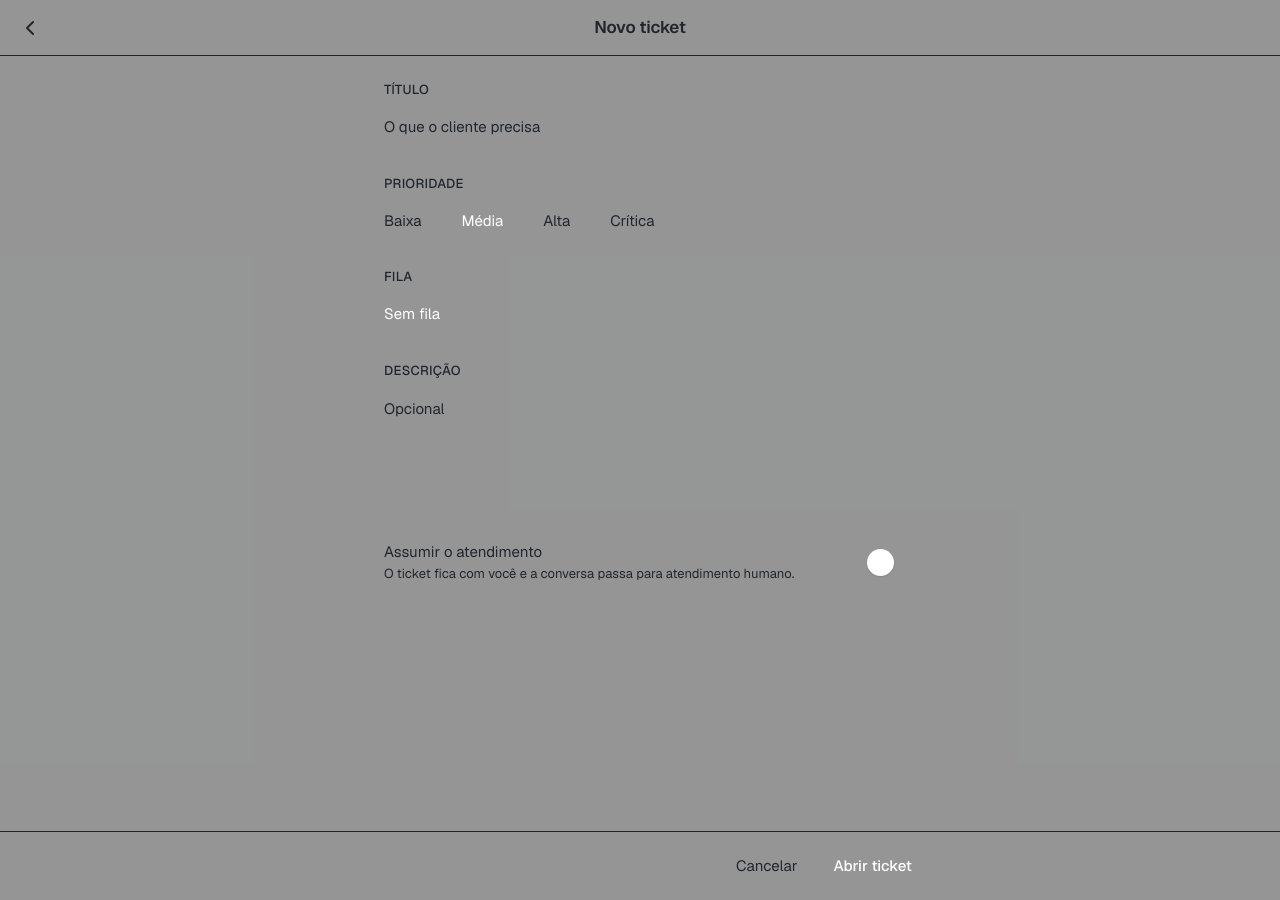
it: ContactInfoSheet · tickets › Esc no Novo ticket sujo pergunta "Descartar?" na própria vista; cada Esc desfaz uma coisa
expect the heading "Novo ticket" is shown: met, box [594,16,686,38]
Type "Rascunho do ticket" into the field labelled "Título".
click(640, 128); type("Rascunho do ticket")  # box [368,106,912,150]
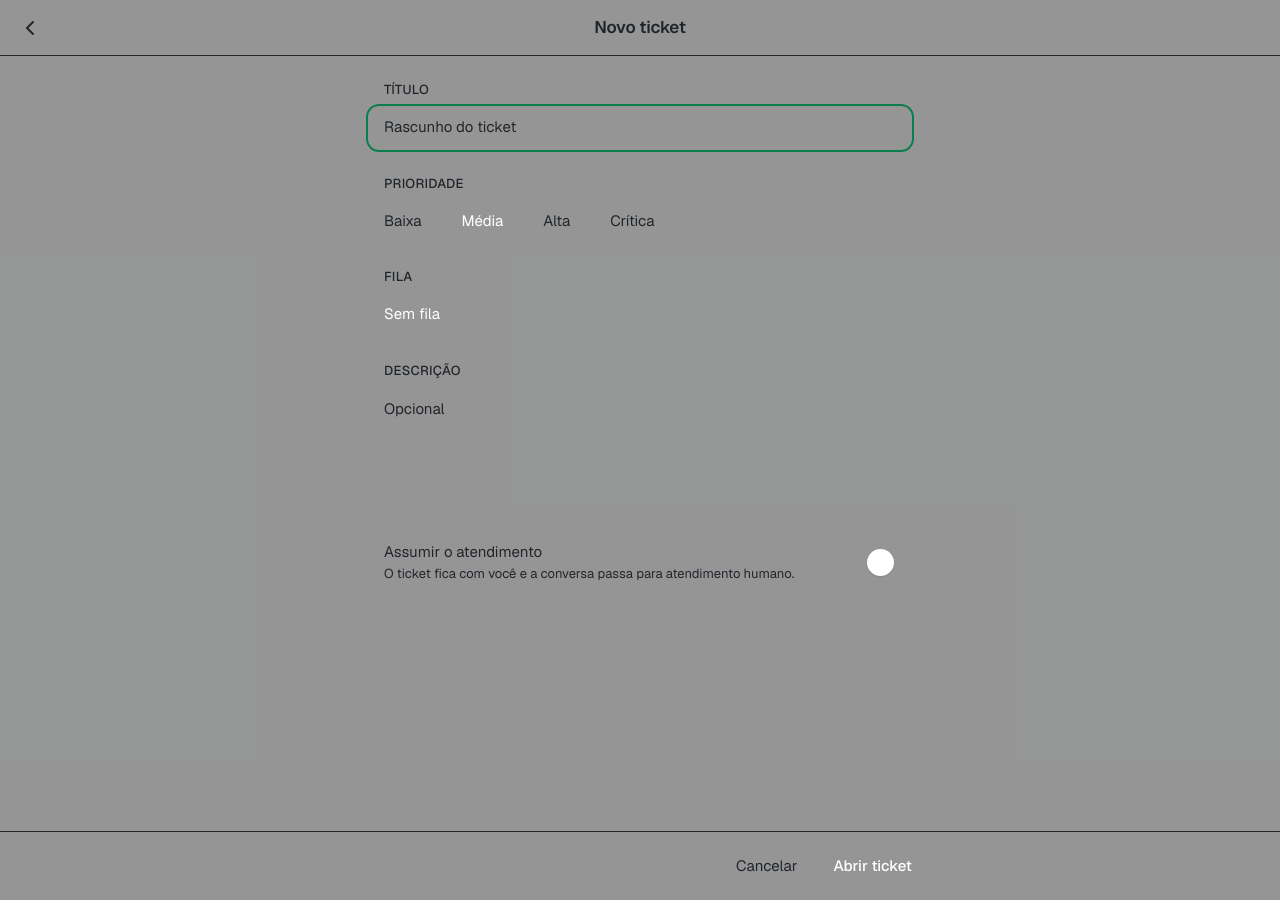
Press Escape
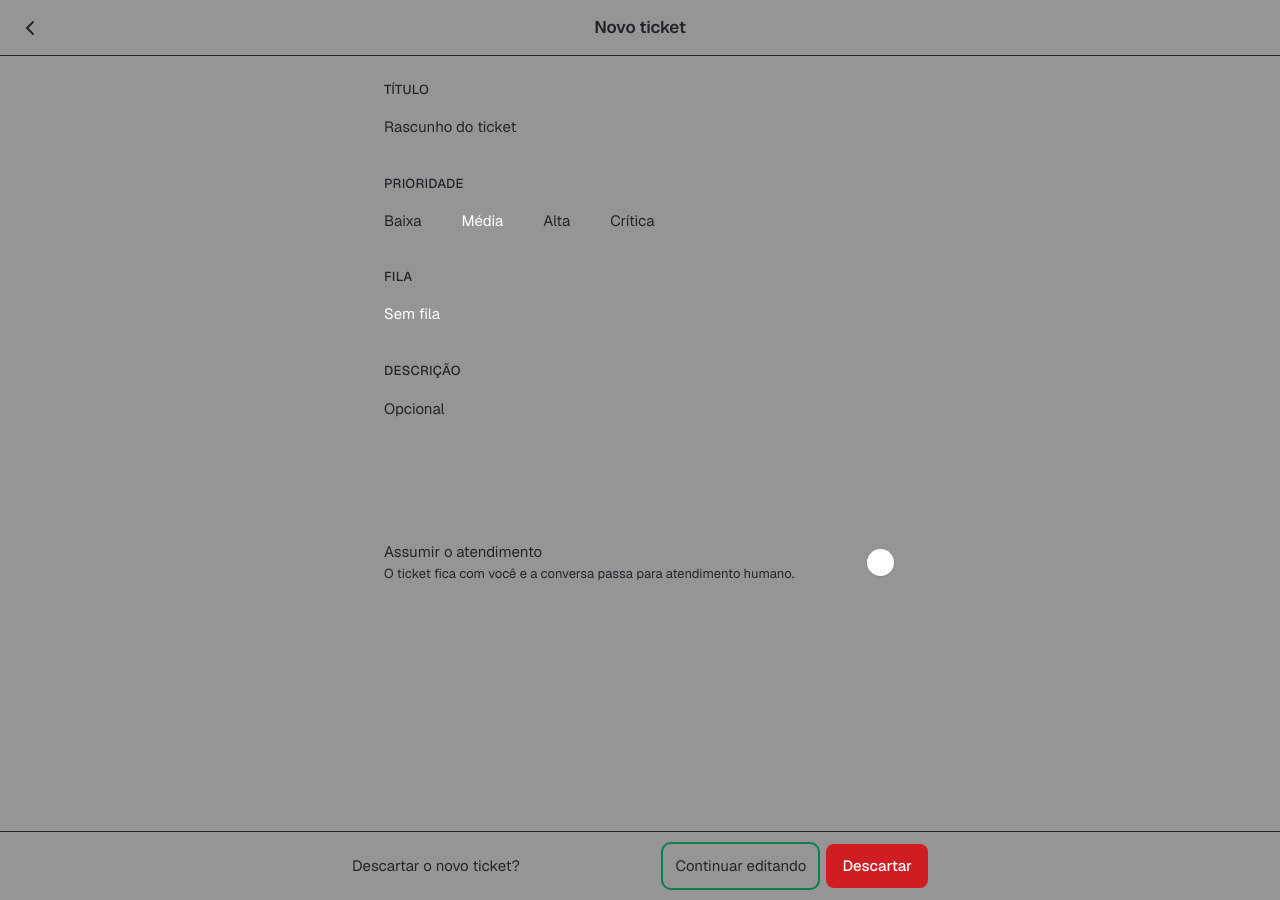
expect the heading "Novo ticket" is shown: met, box [594,16,686,38]
expect the text "Descartar o novo ticket?" is shown: met, box [352,856,520,875]
Press Escape
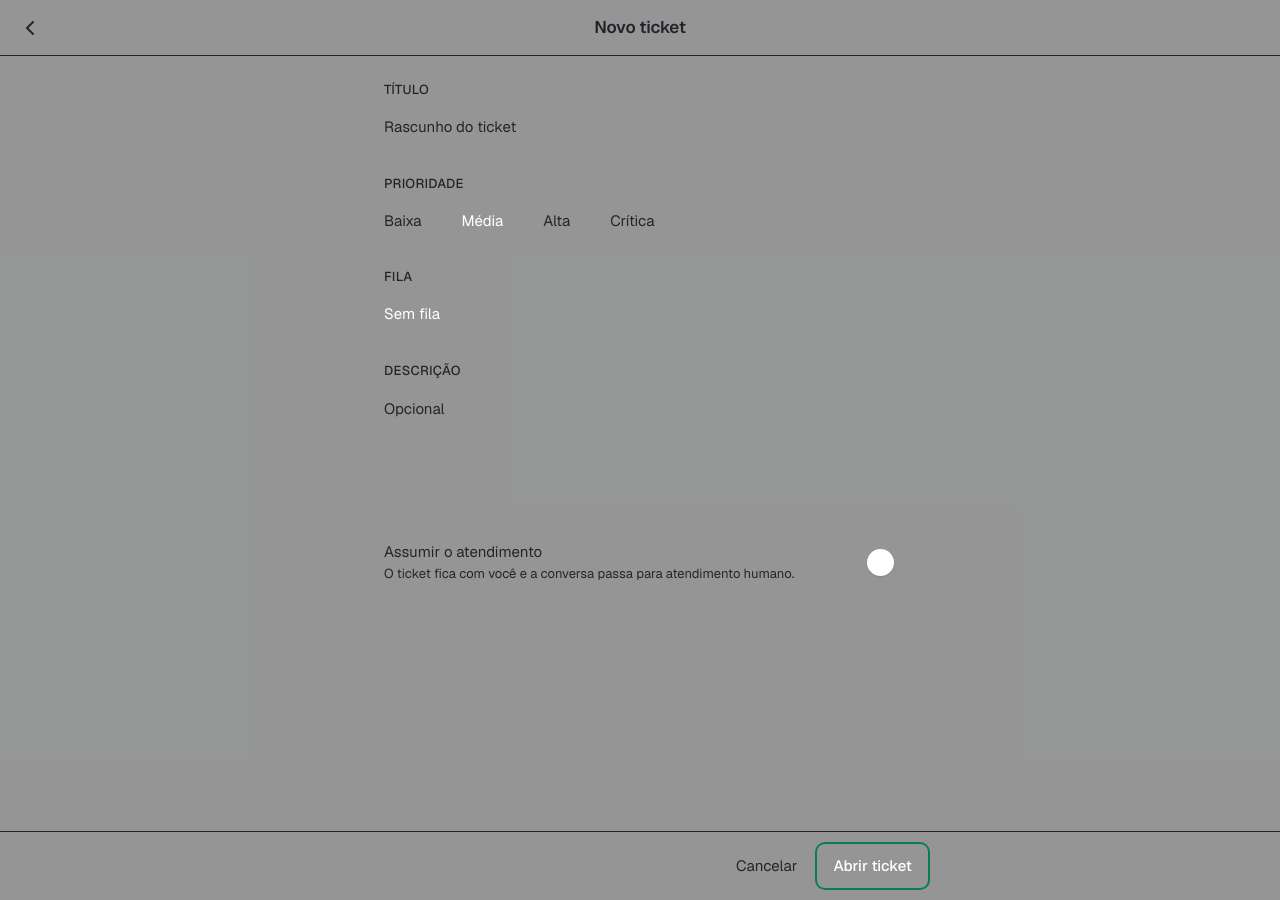
expect the heading "Novo ticket" is shown: met, box [594,16,686,38]
expect the text "Descartar o novo ticket?" is gone: met
Click the button named "Voltar para os dados do contato".
click(30, 28)  # box [8,6,52,50]
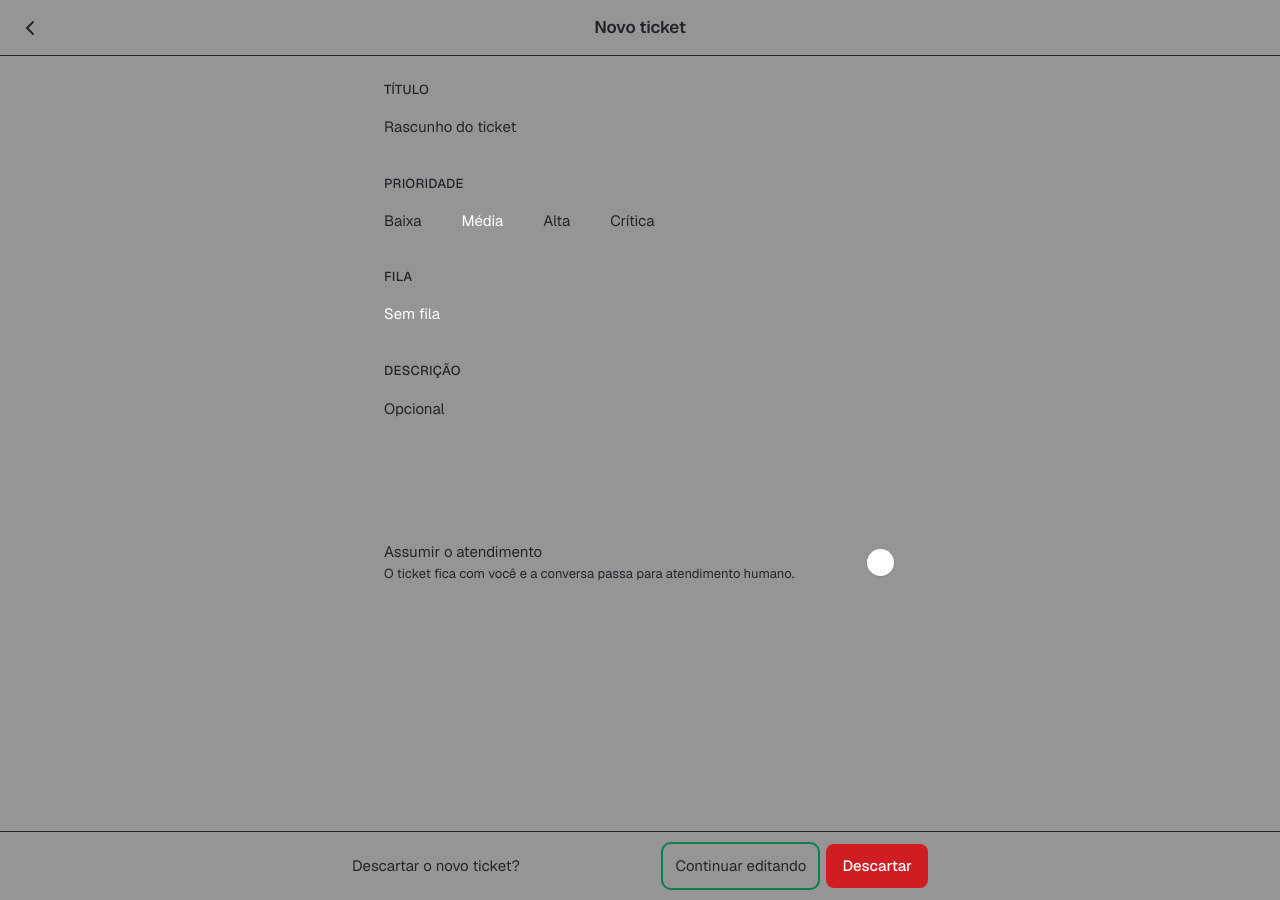
Click the button "Descartar".
click(877, 866)  # box [826,844,928,888]
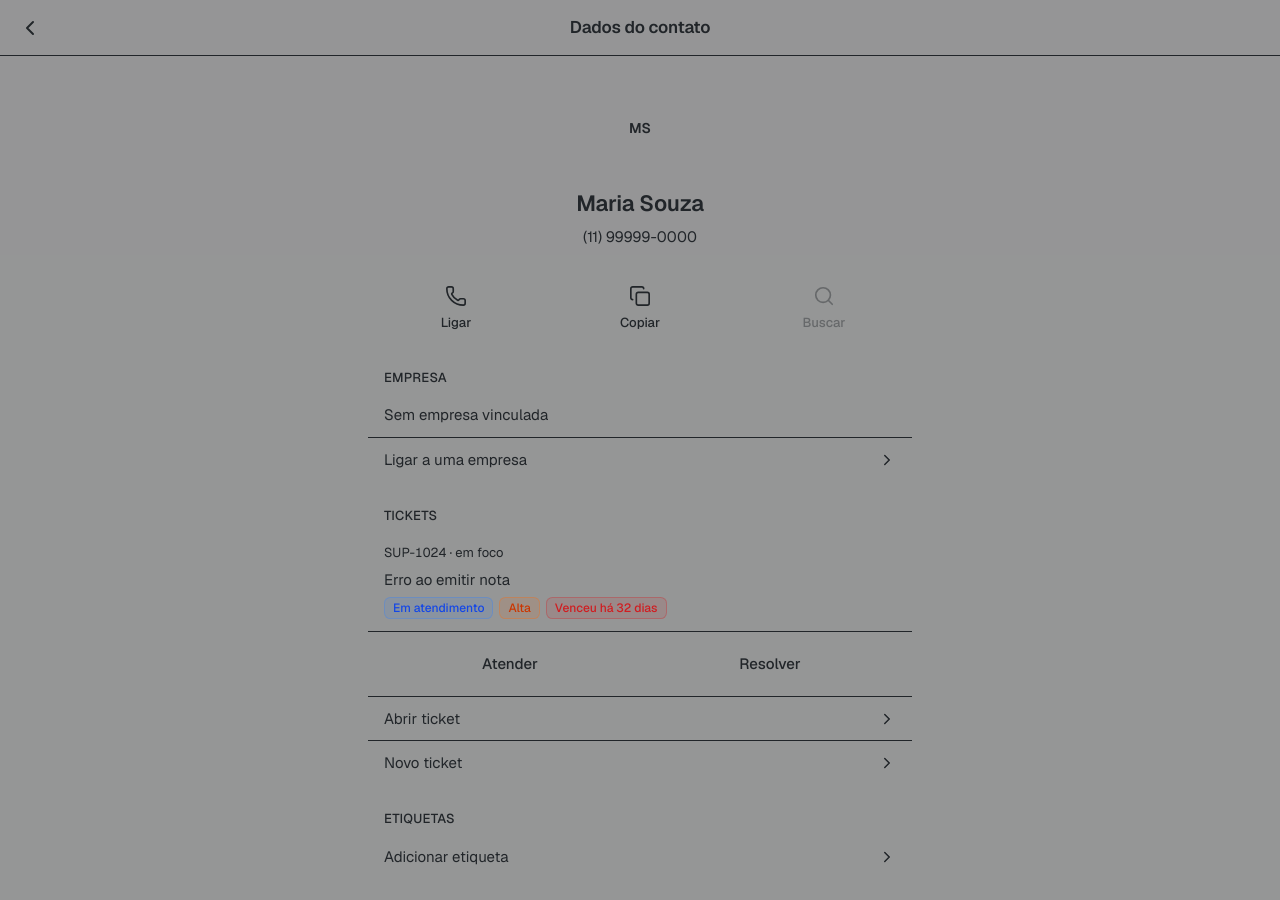
expect the heading "Dados do contato" is shown: met, box [570,16,710,38]
